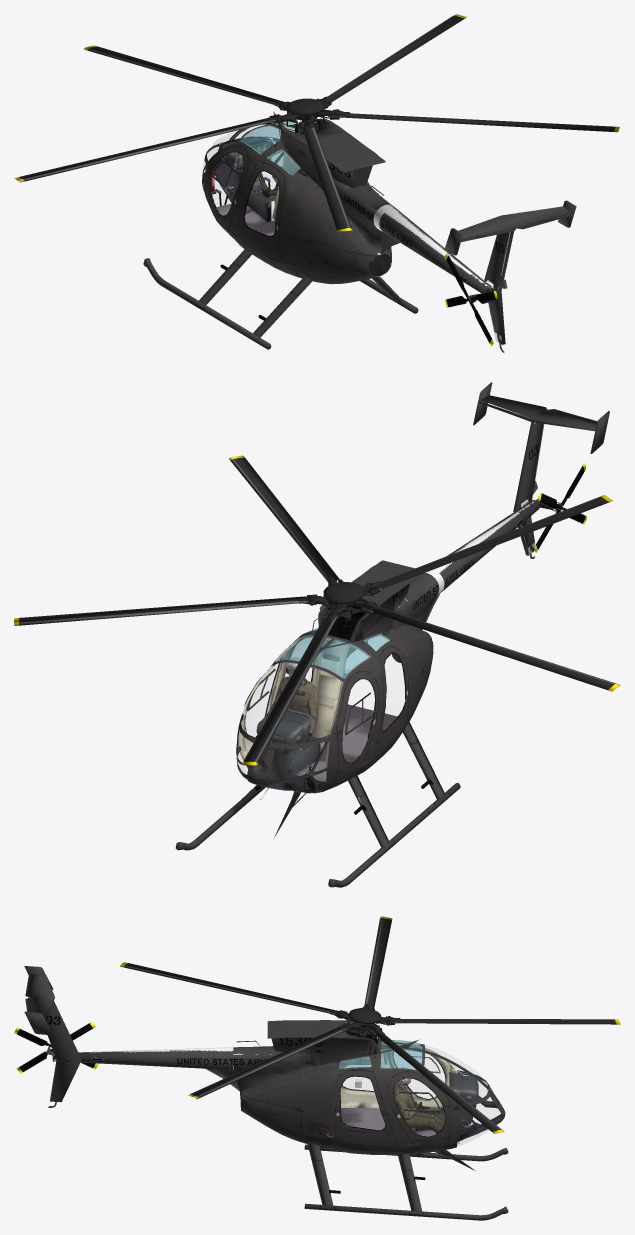
3 views of the same model, one above another, from view 1: azimuth 30°, elevation 25°; view 2: azimuth 150°, elevation 25°; view 3: azimuth 270°, elevation 25° (orthographic). The views are drawn at different scales.
Visible parts, largest first — view 1: ext_fuselage1, rotor_main, ext_tail, ext_fuselage2, int_console, int_fuselage2, glasss_grn, rotor_tail, glass; view 2: rotor_main, ext_fuselage1, ext_fuselage2, ext_tail, int_fuselage2, int_console, int_fuselage1, glasss_grn, int_fuselage3, int_pilotR, glass, rotor_tail; view 3: ext_fuselage1, rotor_main, ext_tail, ext_fuselage2, int_fuselage1, int_fuselage2, glass, int_pilotR, glasss_grn, int_console, rotor_tail.
Boxes of the visible parts, left/top/right/bottom form: ext_fuselage1: left=202, top=111, right=391, bottom=278; rotor_main: left=14, top=14, right=619, bottom=231; ext_tail: left=344, top=183, right=576, bottom=353; ext_fuselage2: left=143, top=118, right=418, bottom=349; int_console: left=210, top=137, right=276, bottom=221; int_fuselage2: left=202, top=121, right=298, bottom=235; glasss_grn: left=239, top=121, right=299, bottom=175; rotor_tail: left=444, top=253, right=497, bottom=346; glass: left=203, top=125, right=275, bottom=206; rotor_main: left=14, top=455, right=620, bottom=765; ext_fuselage1: left=244, top=579, right=439, bottom=837; ext_fuselage2: left=175, top=560, right=460, bottom=887; ext_tail: left=404, top=382, right=609, bottom=621; int_fuselage2: left=236, top=640, right=397, bottom=793; int_console: left=256, top=706, right=327, bottom=788; int_fuselage1: left=238, top=628, right=405, bottom=781; glasss_grn: left=275, top=628, right=389, bottom=678; int_fuselage3: left=311, top=639, right=367, bottom=744; int_pilotR: left=271, top=657, right=318, bottom=742; glass: left=238, top=664, right=311, bottom=792; rotor_tail: left=534, top=463, right=586, bottom=552; ext_fuselage1: left=233, top=1027, right=495, bottom=1170; rotor_main: left=120, top=916, right=620, bottom=1133; ext_tail: left=24, top=966, right=281, bottom=1107; ext_fuselage2: left=240, top=1020, right=508, bottom=1220; int_fuselage1: left=340, top=1040, right=457, bottom=1136; int_fuselage2: left=341, top=1044, right=502, bottom=1144; glass: left=343, top=1045, right=500, bottom=1146; int_pilotR: left=393, top=1067, right=463, bottom=1138; glasss_grn: left=338, top=1040, right=422, bottom=1070; int_console: left=415, top=1072, right=478, bottom=1135; rotor_tail: left=14, top=1022, right=98, bottom=1073.
Bounding box in the file's own units: 7.48 × 3.44 × 9.23.
Materials: 11 (11 with a texture image).
